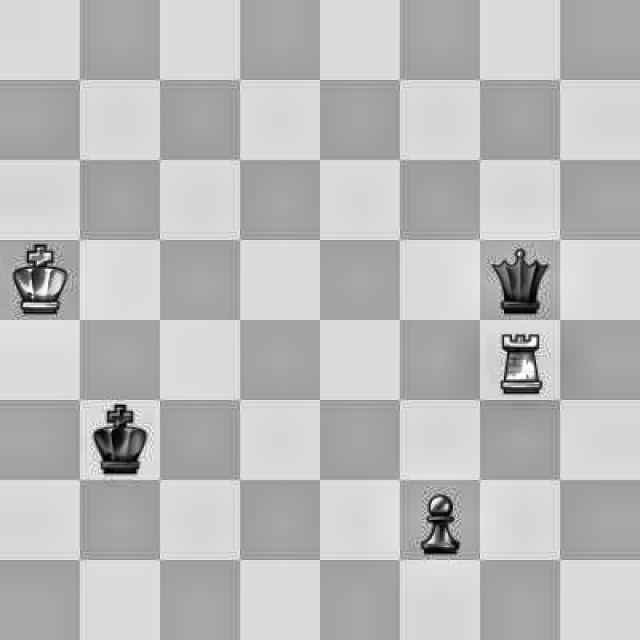black king: (81, 407, 160, 478)
black pawn: (400, 482, 475, 556)
black queen: (485, 238, 559, 320)
white king: (5, 242, 75, 322)
white rook: (478, 322, 554, 399)
